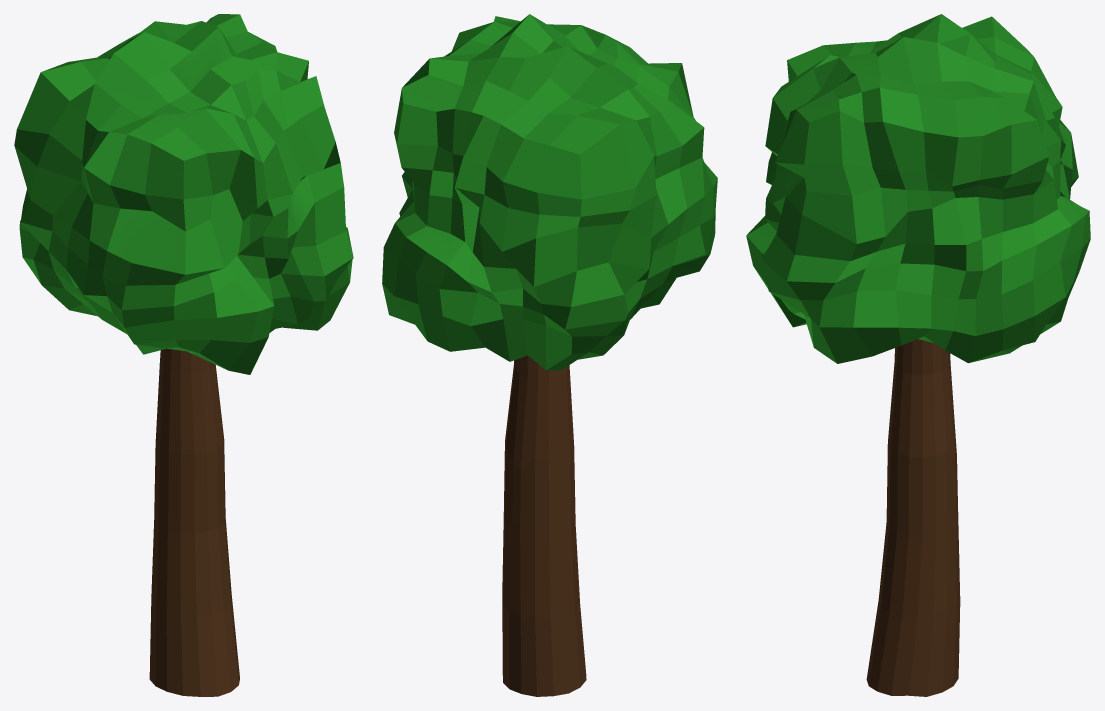
The model's file is Tree.fbx.
3 views of the same model, side by side, from view 1: azimuth 30°, elevation 25°; view 2: azimuth 150°, elevation 25°; view 3: azimuth 270°, elevation 25° (orthographic).
Parts seen in each view (by area): view 1: Tree; view 2: Tree; view 3: Tree.
Boxes of the visible parts, bbox=[...] form: Tree: bbox=[14, 14, 353, 696]; Tree: bbox=[382, 14, 717, 696]; Tree: bbox=[746, 14, 1090, 696].
Bounding box in the file's own units: 429 × 998 × 478.
